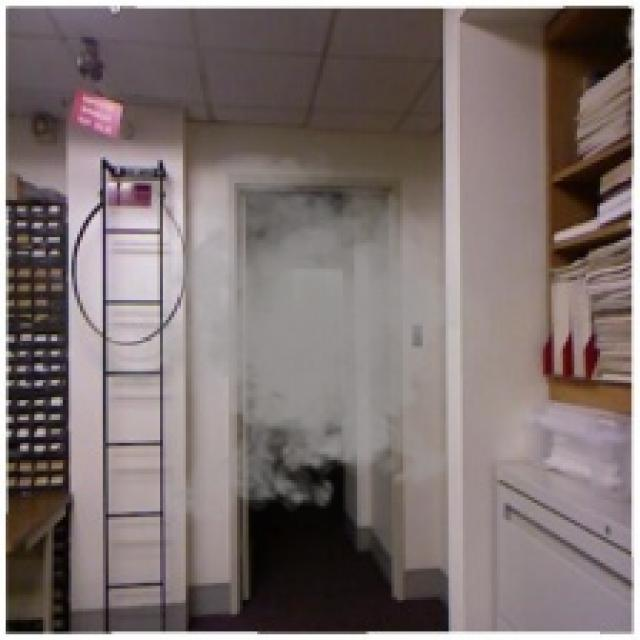smoke: (106, 146, 508, 531)
